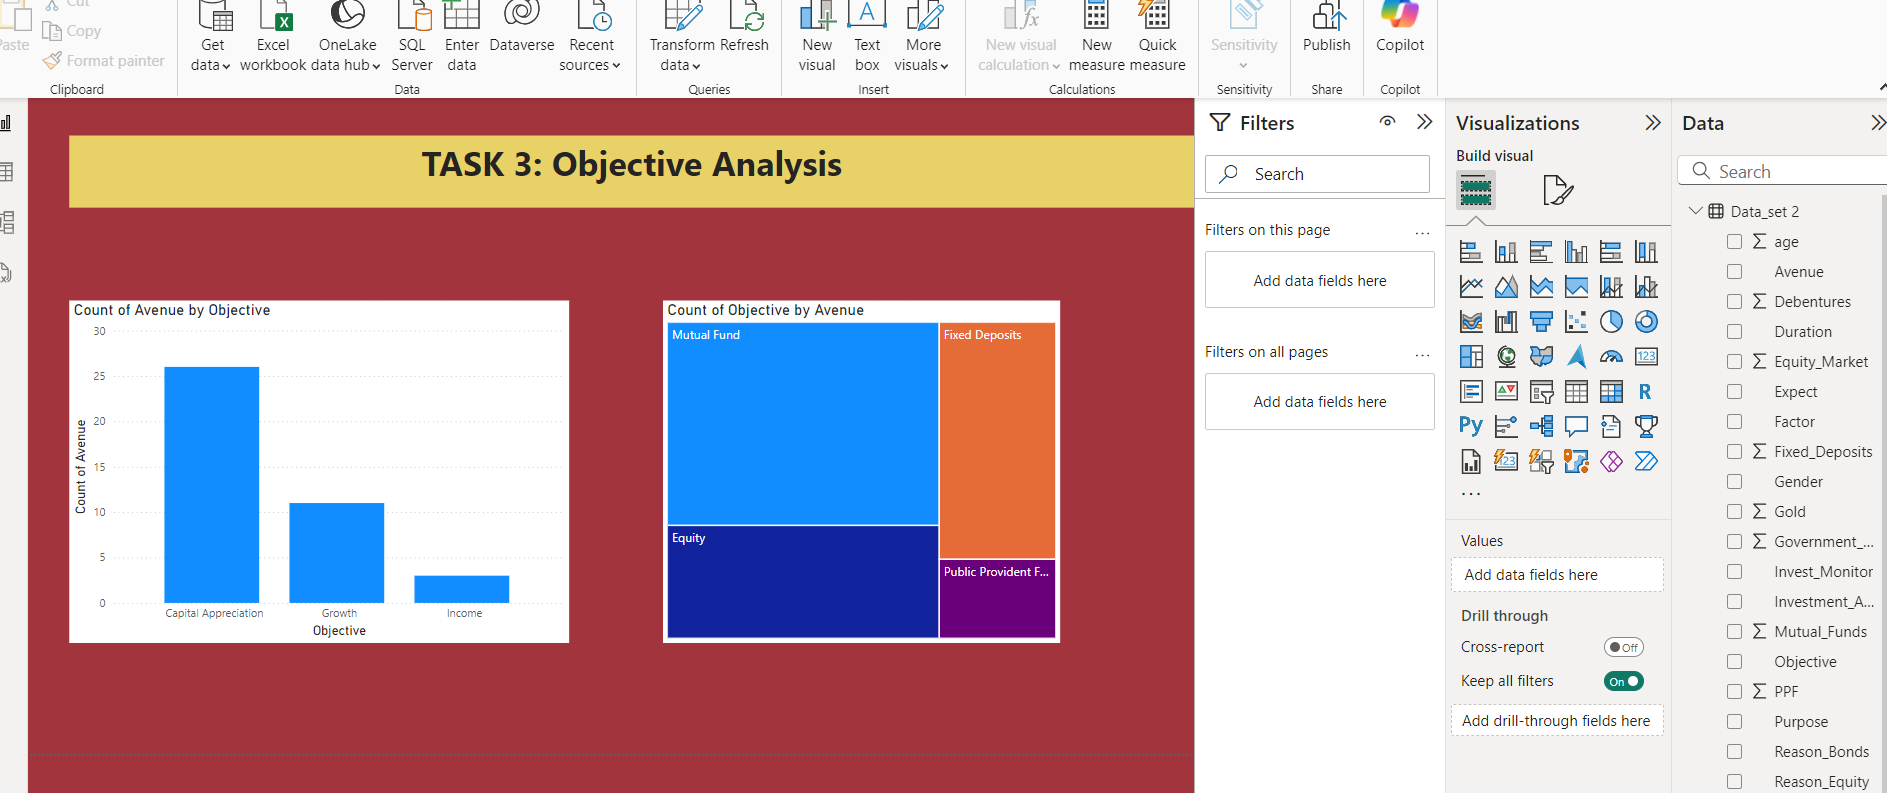

Layout of this report page (visuals, bound fields, positions):
{"tool":"powerbi","page":{"name":"Page 3","canvas":[1280,720],"ordinal":2},"visuals":[{"type":"columnChart","fields":{"Category":["Data_set 2.Objective"],"Y":["CountNonNull(Data_set 2.Avenue)"]},"box":[45.3,222.3,548.9,376],"z":0},{"type":"treemap","fields":{"Group":["Data_set 2.Avenue"],"Values":["CountNonNull(Data_set 2.Objective)"]},"box":[697.1,222.3,436.4,376],"z":1000},{"type":"textbox","box":[45.3,41.2,1235,79.6],"z":2000}]}

Visuals, with their boxes on the page's 1280x720 design canvas (x1, y1, x2, y2). These are canvas units, not pixel positions in the 1887x793 screenshot, which may show the page scaled, cropped or inside an application window:
columnChart - Data_set 2.Objective x CountNonNull(Data_set 2.Avenue): (x1=45, y1=222, x2=594, y2=598)
treemap - Data_set 2.Avenue x CountNonNull(Data_set 2.Objective): (x1=697, y1=222, x2=1134, y2=598)
textbox: (x1=45, y1=41, x2=1280, y2=121)
